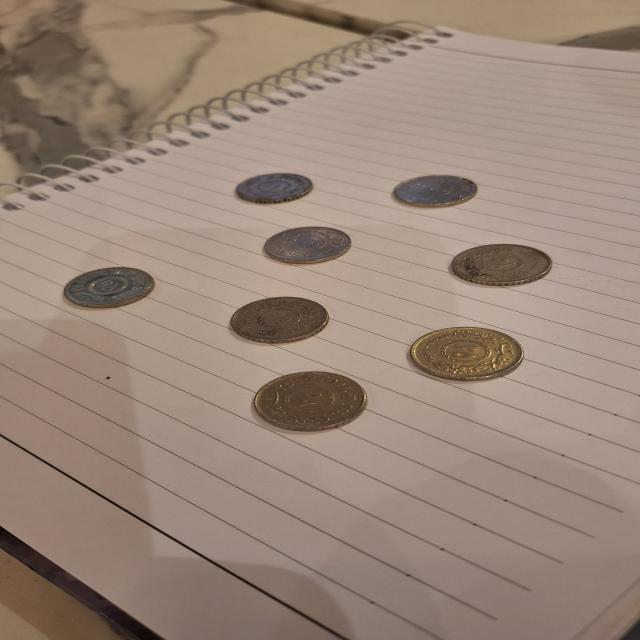quarter pound: (250, 369, 374, 433), (406, 325, 529, 385), (221, 294, 337, 348), (448, 239, 555, 291), (57, 265, 162, 311), (253, 225, 357, 268), (388, 170, 482, 213), (236, 166, 320, 206)
